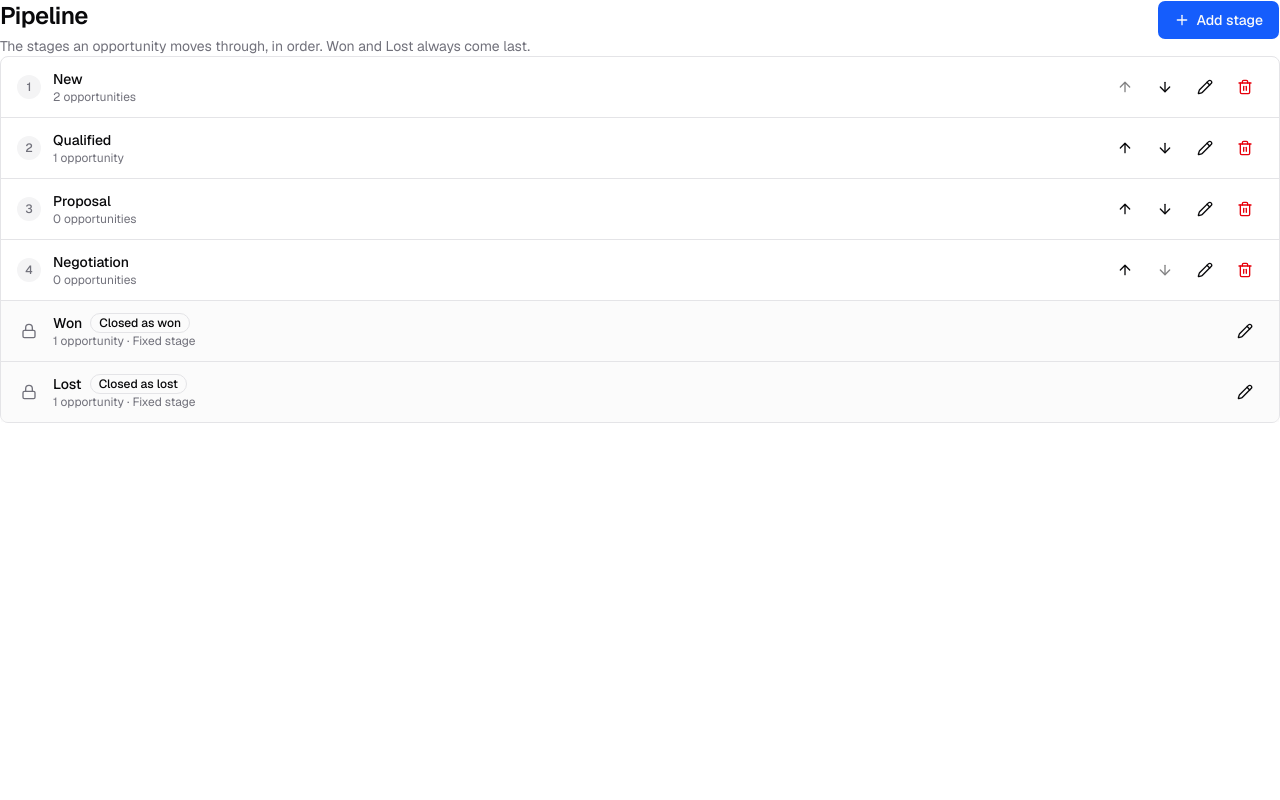
Test: PipelineSettingsPage › explains a refused delete in the dialog: on the field, or above the form
Expected: the list named "Pipeline stages" is shown, 0,56 -> 1279,423
Click the button named "Delete Qualified". click: [1245, 148]
box: 1227,130 -> 1263,166
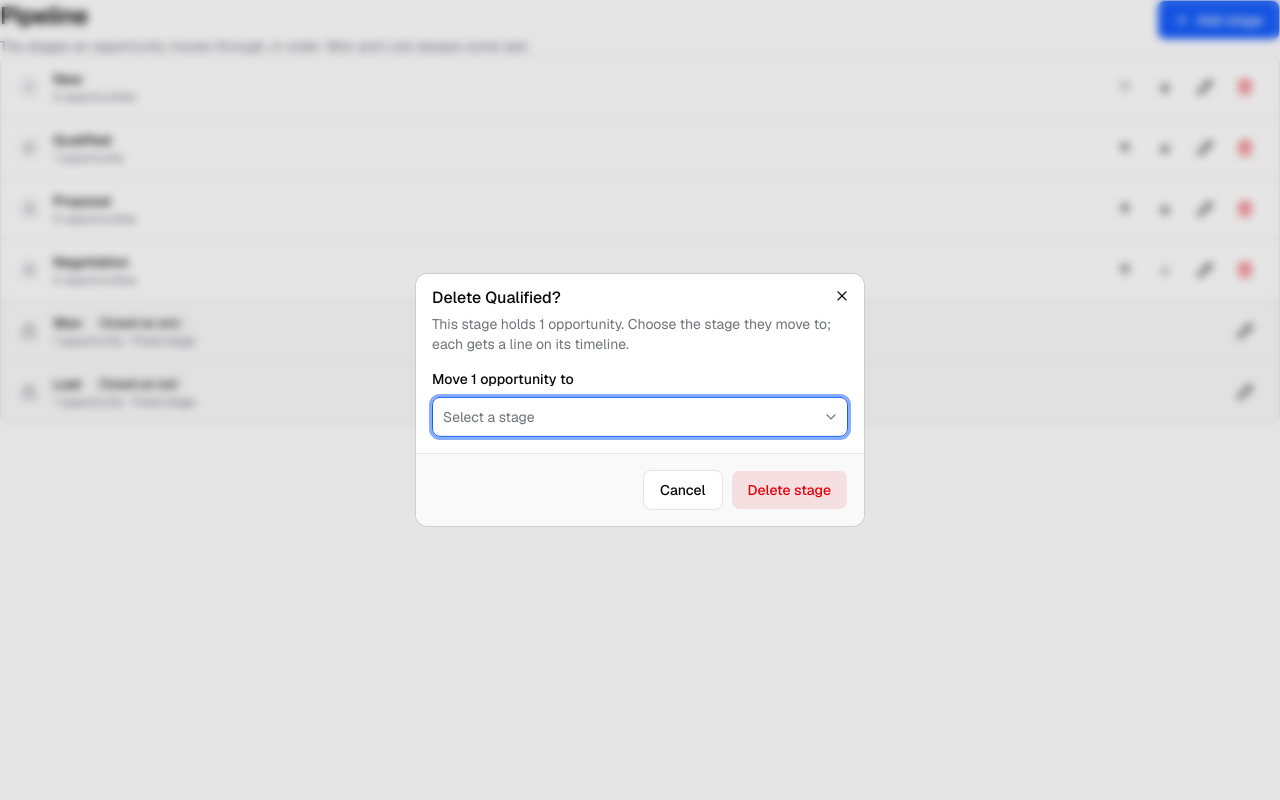
Click the dropdown named "Move 1 opportunity to". click: [489, 417]
box: 432,397 -> 848,437
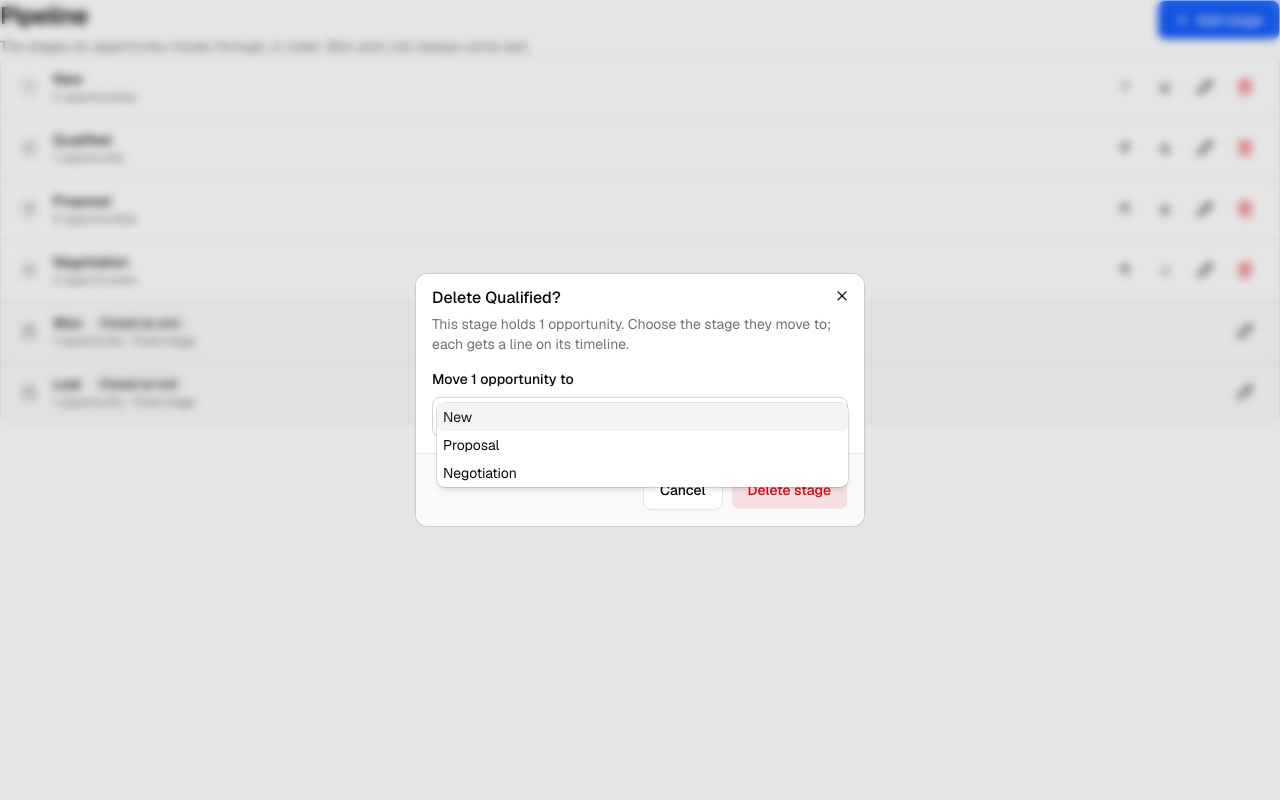
Click the option "New". click: [458, 417]
box: 437,403 -> 848,431
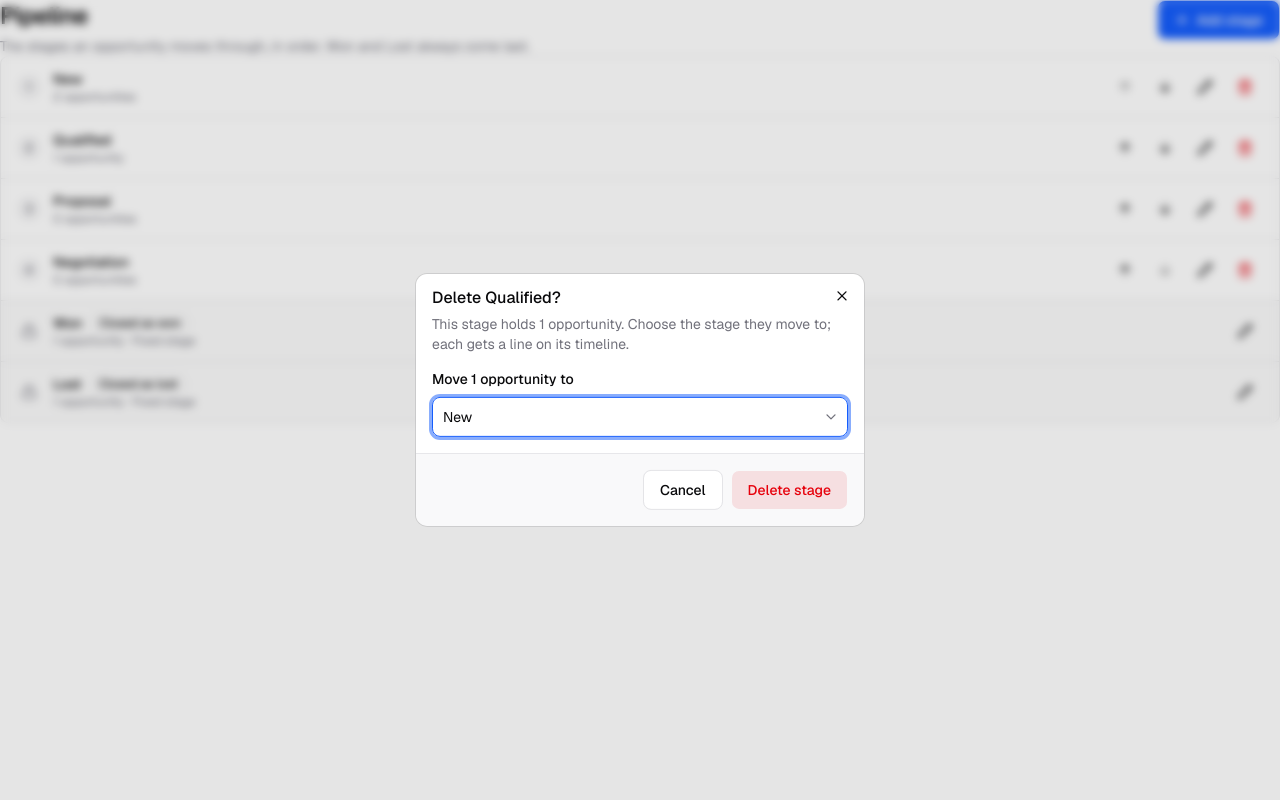
Click the button "Delete stage". click: [789, 490]
box: 731,470 -> 848,510
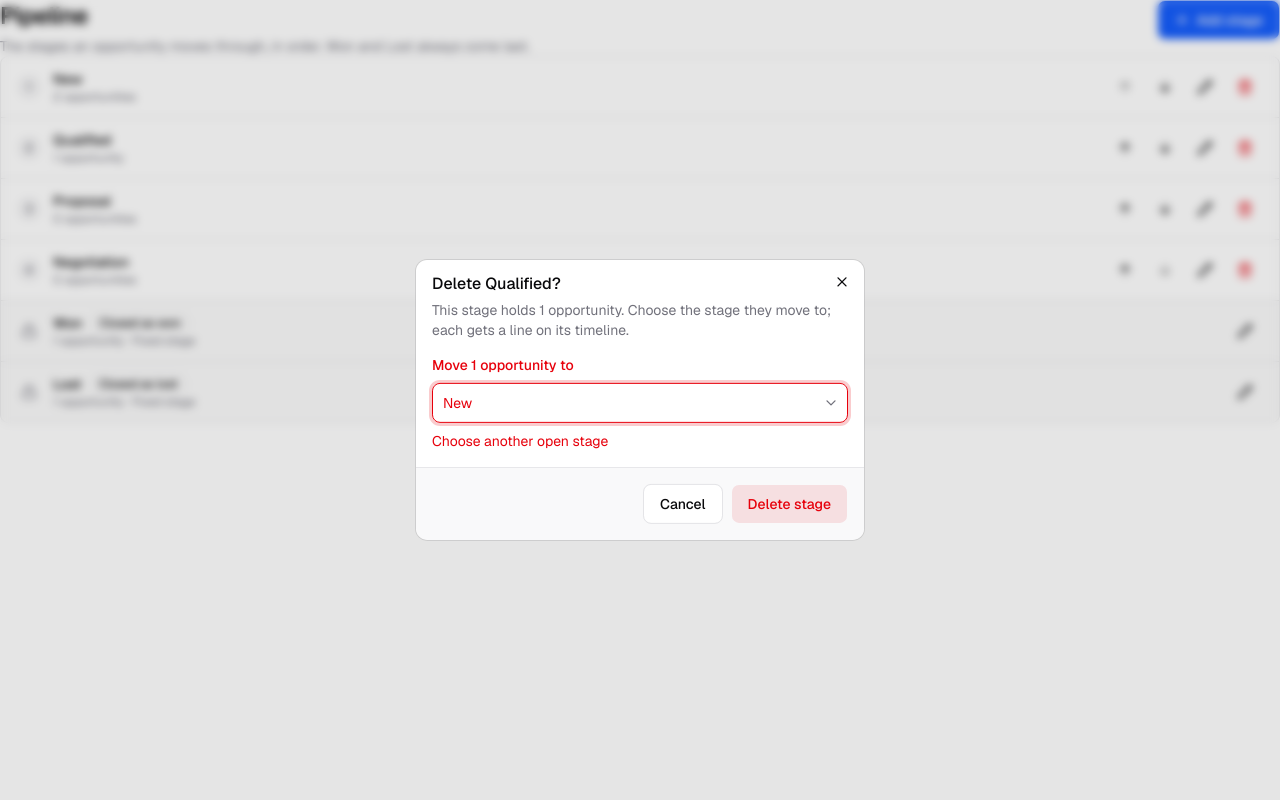
Now the text "Choose another open stage" is shown, box 432,432 -> 608,450
Click the button "Delete stage". click: [789, 504]
box: 731,484 -> 848,524
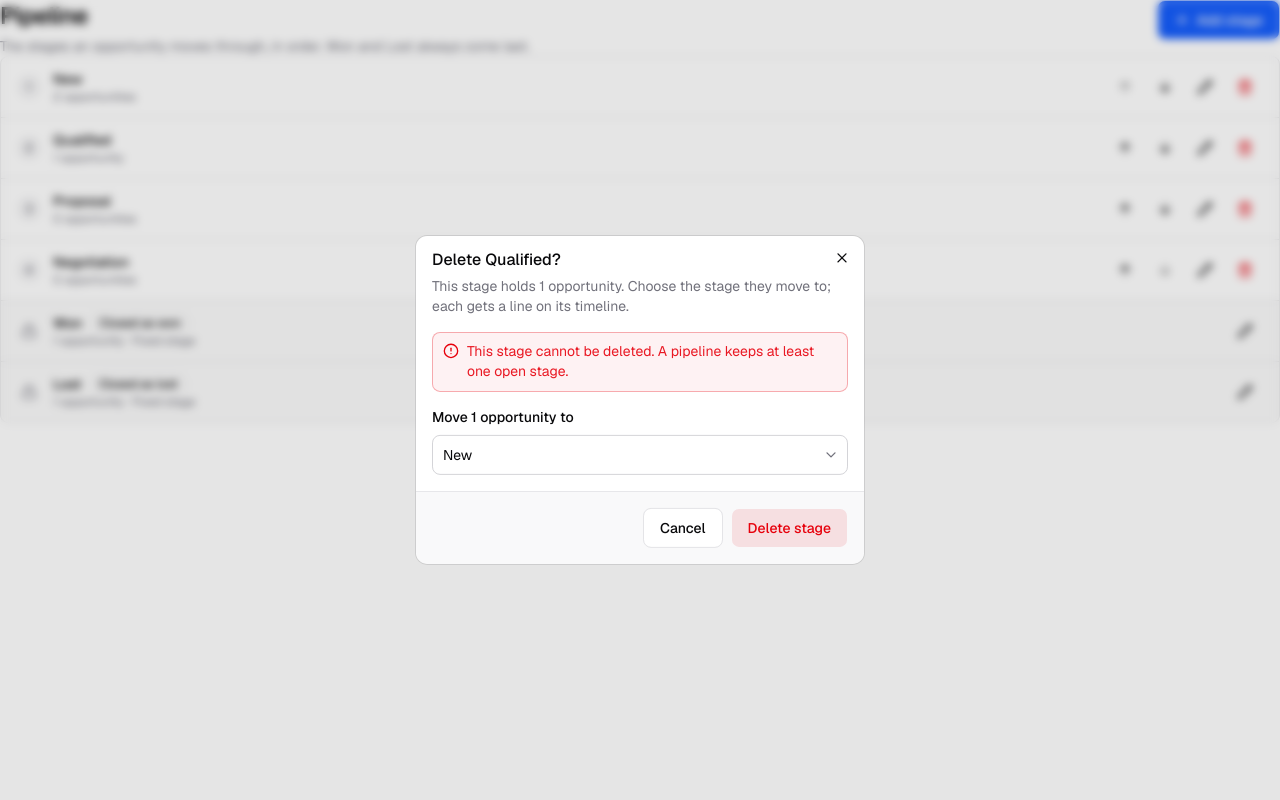
Now the message reads "This stage cannot be deleted. A pipeline keeps at least one open stage.", box 467,342 -> 814,380
